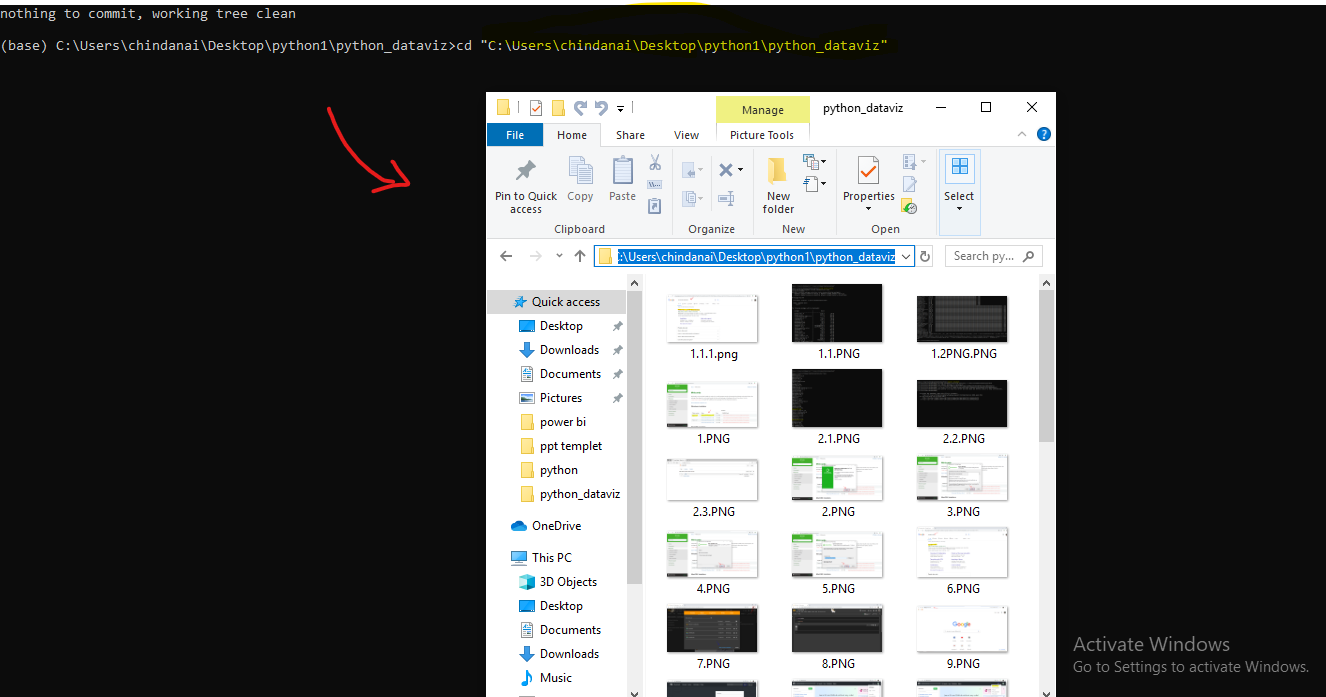

What the dashboard file says about the page in this screenshot:
{"tool":"powerbi","page":{"name":"หน้า 1","canvas":[1280,800],"ordinal":0},"visuals":[{"type":"textbox","box":[0,0,1280,125.8],"z":0},{"type":"filledMap","fields":{"Category":["covid_19.Province/State"]},"box":[946.1,126,333.9,351.9],"z":1000},{"type":"card","title":"ผู้ติดเชื้อ","fields":{"Values":["Sum(covid_19.Confirmed)"]},"box":[0,125.8,174.5,72.1],"z":2000},{"type":"card","title":"ผู้เสียชีวิต","fields":{"Values":["Sum(covid_19.Deaths)"]},"box":[174.5,125.8,174.5,72.1],"z":3000},{"type":"card","title":"รักษาหาย","fields":{"Values":["Sum(covid_19.Recovered)"]},"box":[348.6,126,175.1,72],"z":4000},{"type":"clusteredColumnChart","title":"Top 5 in Confimed","fields":{"Y":["Sum(covid_19.Confirmed)"],"Category":["covid_19.Country"]},"box":[0,478,404.3,322.5],"z":5000},{"type":"multiRowCard","fields":{"Values":["Sum(covid_19.Confirmed)","Sum(covid_19.Deaths)","Sum(covid_19.Recovered)","covid_19.Country"]},"box":[404.3,478,399.4,322.5],"z":6000},{"type":"pieChart","fields":{"Category":["covid_19.Country"],"Y":["Sum(covid_19.Confirmed)"]},"box":[0,198.1,523.8,279.9],"z":7000},{"type":"clusteredBarChart","fields":{"Y":["Sum(covid_19.Confirmed)","Sum(covid_19.Deaths)","Sum(covid_19.Recovered)"],"Category":["covid_19.Country"]},"box":[803.7,478,476.3,322.5],"z":8000},{"type":"lineChart","fields":{"Y":["Sum(covid_19.Confirmed)","Sum(covid_19.Deaths)","Sum(covid_19.Recovered)"],"Category":["covid_19.Date"]},"box":[523.8,126,422.3,351.9],"z":9000}]}

Visuals, with their boxes on the page's 1280x800 design canvas (x1, y1, x2, y2). These are canvas units, not pixel positions in the 1326x697 screenshot, which may show the page scaled, cropped or inside an application window:
textbox: box(0, 0, 1280, 126)
filledMap - covid_19.Province/State: box(946, 126, 1280, 478)
"ผู้ติดเชื้อ" card: box(0, 126, 174, 198)
"ผู้เสียชีวิต" card: box(174, 126, 349, 198)
"รักษาหาย" card: box(349, 126, 524, 198)
"Top 5 in Confimed" clusteredColumnChart: box(0, 478, 404, 800)
multiRowCard - Sum(covid_19.Confirmed) x Sum(covid_19.Deaths): box(404, 478, 804, 800)
pieChart - covid_19.Country x Sum(covid_19.Confirmed): box(0, 198, 524, 478)
clusteredBarChart - Sum(covid_19.Confirmed) x Sum(covid_19.Deaths): box(804, 478, 1280, 800)
lineChart - Sum(covid_19.Confirmed) x Sum(covid_19.Deaths): box(524, 126, 946, 478)
